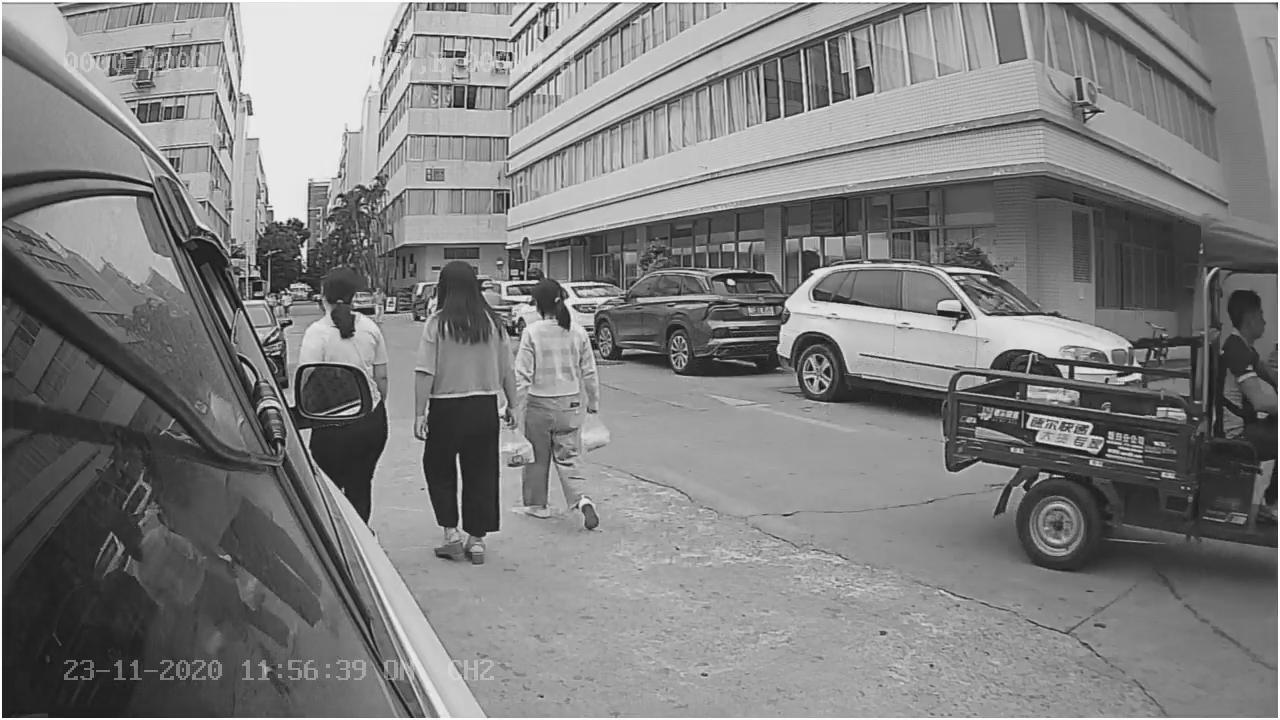person: (407, 251, 520, 571), (510, 273, 615, 534), (1215, 283, 1272, 442)
